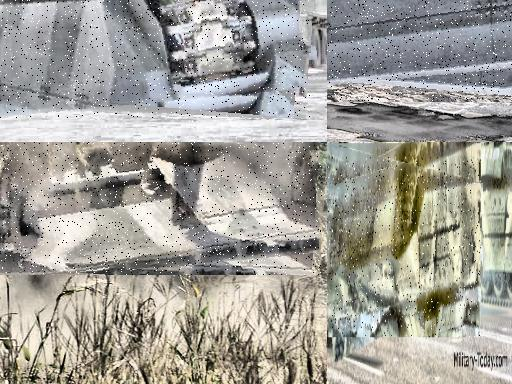tanks: (1, 143, 323, 276), (1, 1, 311, 117), (328, 159, 482, 338), (328, 1, 512, 84)
